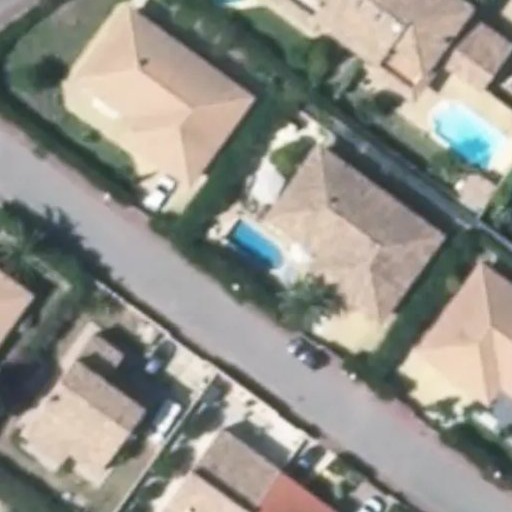pool: (225, 236, 292, 253)
